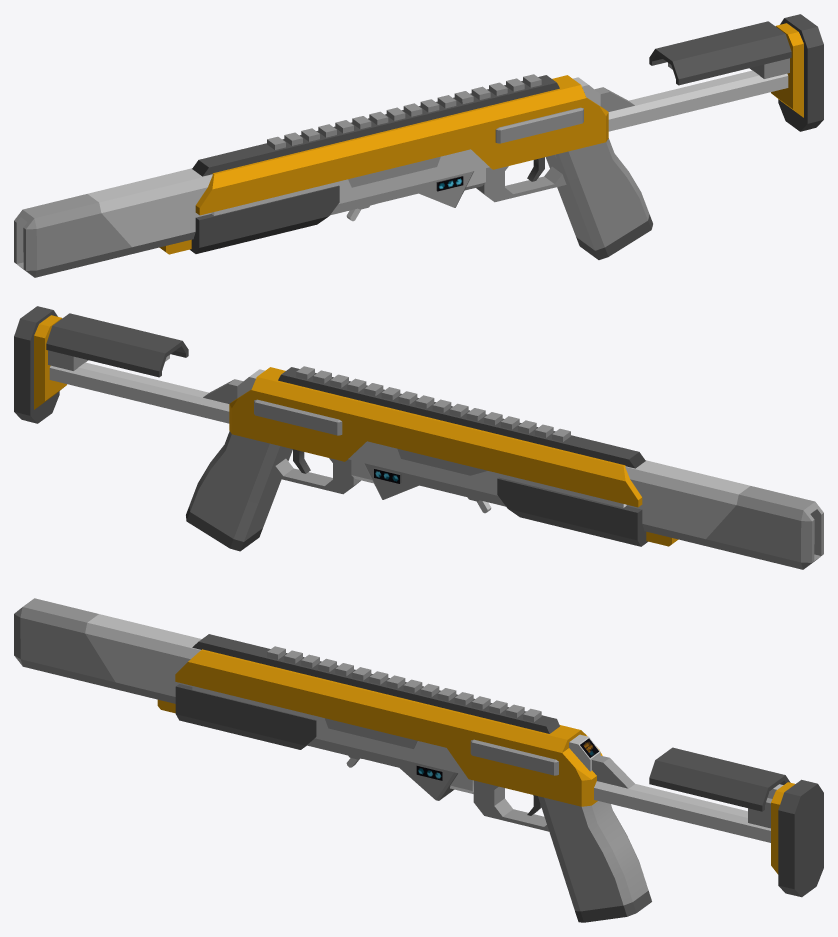
The model's file is SM_DMR01.fbx.
The picture shows the model from 3 angles, top to bottom: view 1: azimuth 30°, elevation 25°; view 2: azimuth 150°, elevation 25°; view 3: azimuth 330°, elevation 25°; orthographic projection.
Visible parts, largest first — view 1: SM_DMR01; view 2: SM_DMR01; view 3: SM_DMR01.
Boxes of the visible parts, x1,y1,x2,y2 form: SM_DMR01: [14, 14, 823, 277]; SM_DMR01: [14, 306, 823, 569]; SM_DMR01: [14, 598, 823, 922].
Bounding box in the file's own units: 85.48 × 19.49 × 5.5.
Materials: 6 (1 with a texture image).
